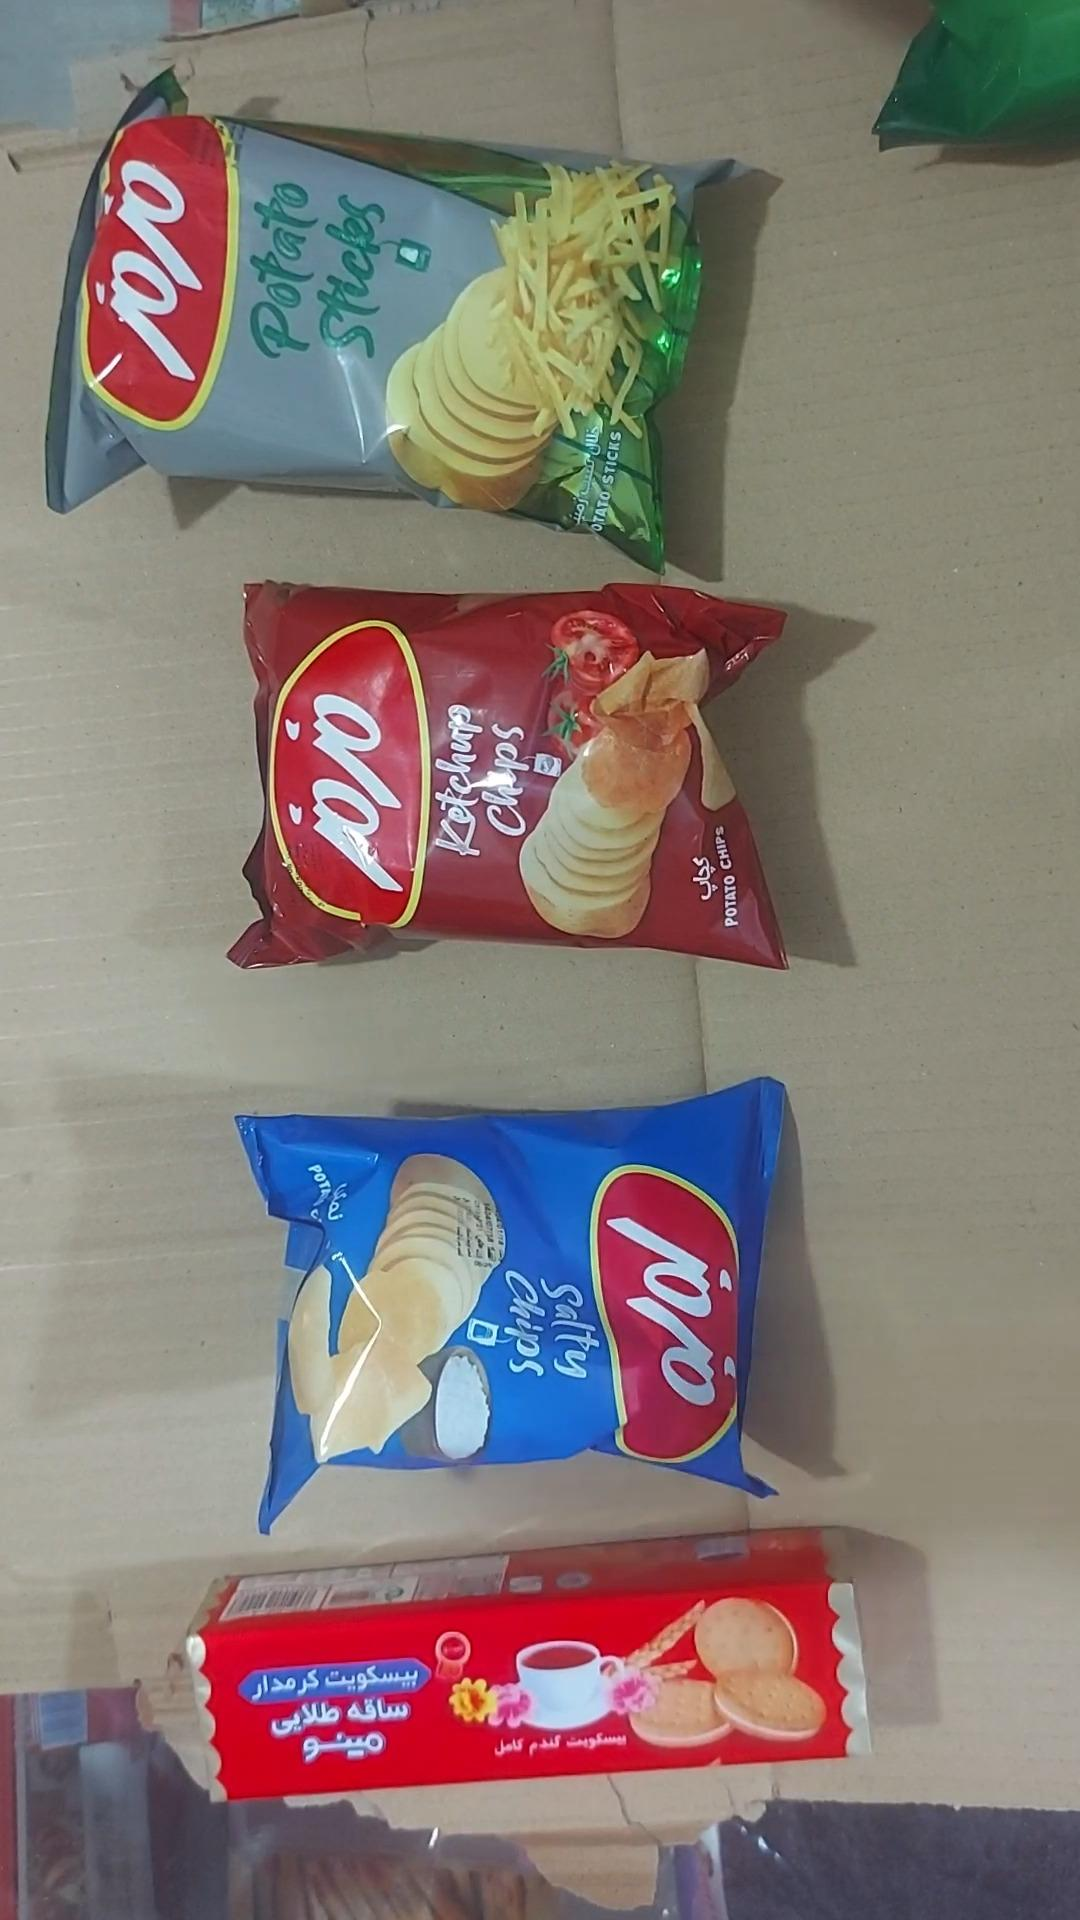Maz Maz ketchup chips: (227, 582, 790, 971)
Maz Maz potato sticks: (44, 70, 742, 574)
Maz Maz salty chips: (235, 1077, 787, 1538)
Minoo cream biscuit: (185, 1527, 877, 1801)
